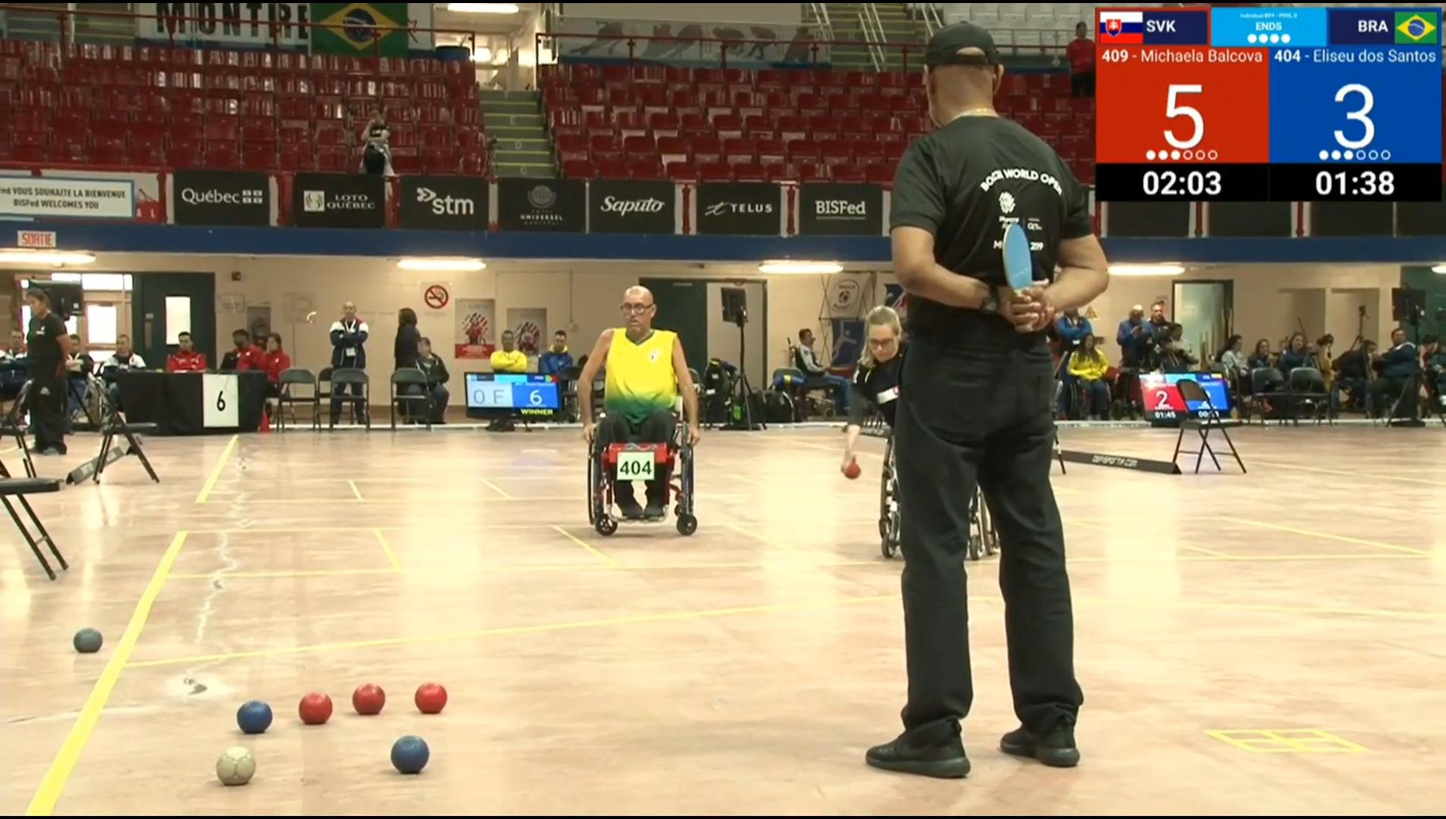blue_ball: (387, 732, 431, 777), (234, 698, 275, 737)
red_ball: (297, 689, 334, 728), (350, 681, 388, 718), (412, 680, 449, 717)
white_ball: (214, 746, 258, 790)
